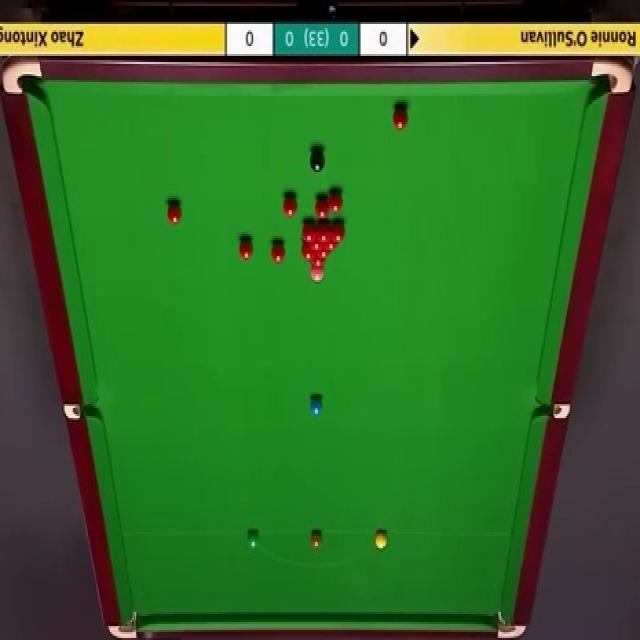blue-ball: (309, 394, 324, 419)
brown-ball: (309, 529, 323, 549)
green-ball: (244, 528, 258, 550)
pink-ball: (309, 265, 326, 283)
red-ball: (166, 199, 182, 224), (314, 196, 331, 219), (270, 240, 286, 264), (327, 191, 343, 214), (282, 196, 298, 219), (394, 105, 408, 130), (238, 238, 253, 261), (331, 222, 346, 243), (302, 221, 317, 242), (318, 222, 330, 242), (301, 244, 315, 261), (308, 240, 323, 252), (308, 257, 327, 266), (323, 241, 338, 252), (314, 249, 330, 259)
yellow-ball: (374, 530, 388, 550)
